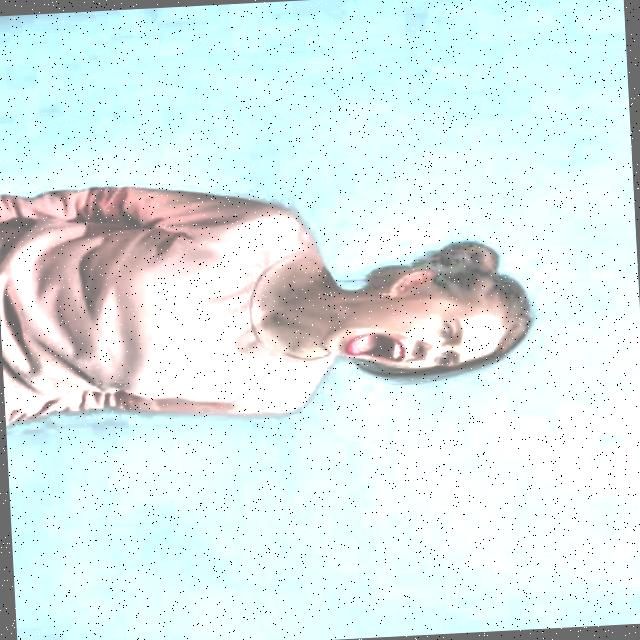angry: (293, 229, 547, 406)
